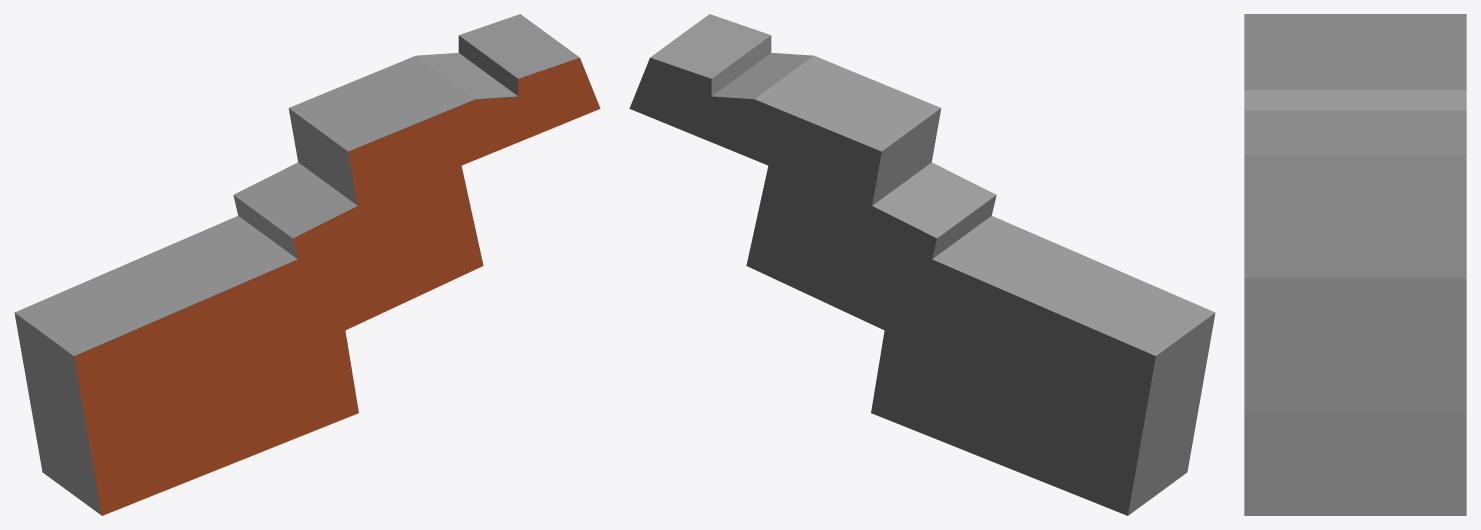
File: construction_2356_assumed_A_Casa_h6m.obj
The picture shows the model from 3 angles, left to right: view 1: azimuth 30°, elevation 25°; view 2: azimuth 150°, elevation 25°; view 3: azimuth 270°, elevation 25°; orthographic projection. The views are drawn at different scales.
Parts seen in each view (by area): view 1: construction_2356_assumed_A_Casa; view 2: construction_2356_assumed_A_Casa; view 3: construction_2356_assumed_A_Casa.
Part boxes in pixels (bbox=[...]): construction_2356_assumed_A_Casa: bbox=[14, 14, 600, 515]; construction_2356_assumed_A_Casa: bbox=[629, 14, 1215, 515]; construction_2356_assumed_A_Casa: bbox=[1244, 14, 1466, 515].
Size of the model in its own units: 30.6 by 18.98 by 6.
